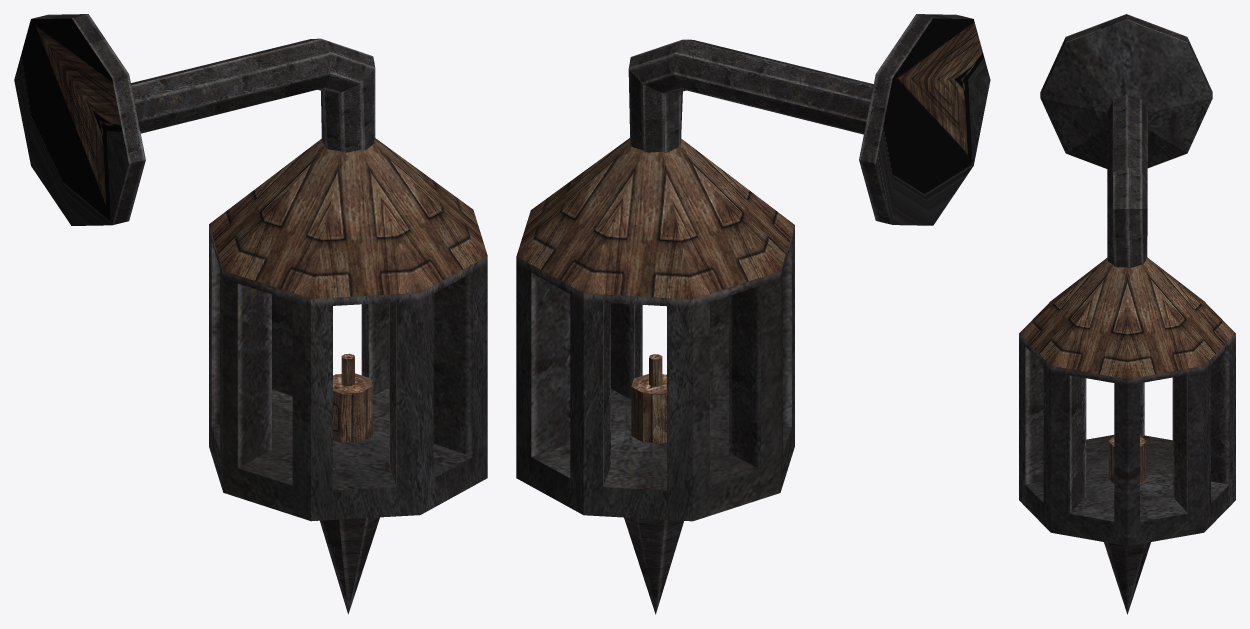
File: v3_lamp2.dae
3 views of the same model, side by side, from view 1: azimuth 30°, elevation 25°; view 2: azimuth 150°, elevation 25°; view 3: azimuth 270°, elevation 25° (orthographic). The views are drawn at different scales.
Parts seen in each view (by area): view 1: Material; view 2: Material; view 3: Material.
Part boxes in pixels (x1=…): Material: x1=14, y1=14, x2=487, y2=614; Material: x1=516, y1=14, x2=990, y2=614; Material: x1=1019, y1=14, x2=1235, y2=614.
Size of the model in its own units: 0.3398 by 0.5365 by 0.2111.
